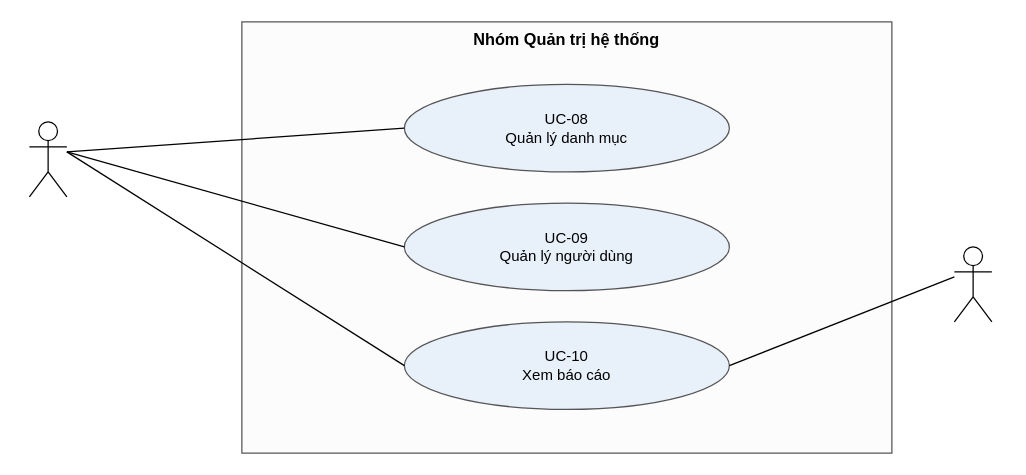
This 1026x475 diagram has some shape labels left out. Here are the shapes that lost their labels. From the top down, the box of each, then its label:
(28, 121, 67, 197): Quản trị
(953, 246, 992, 322): Điều phối
